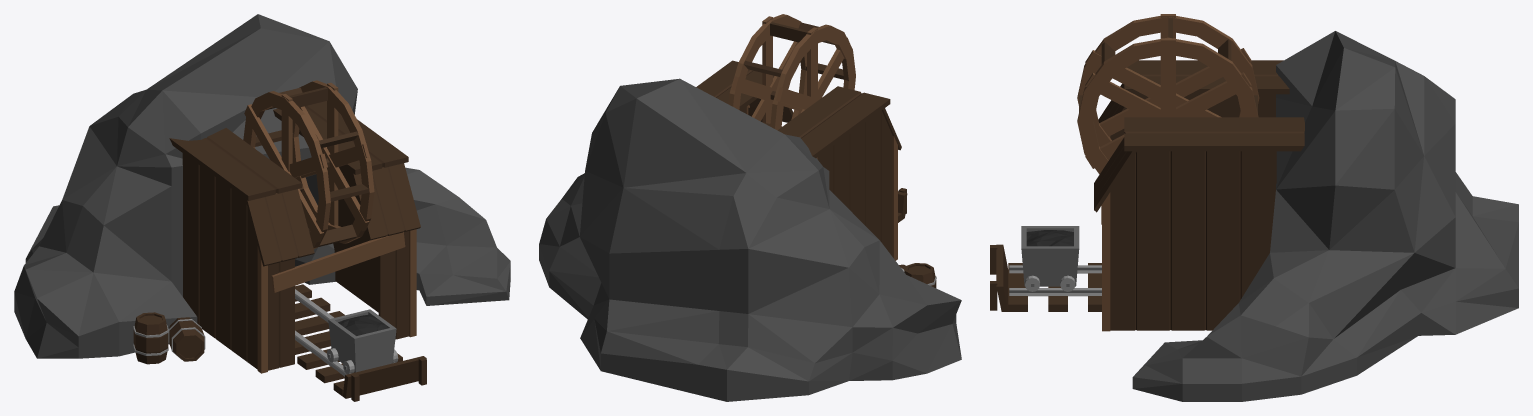
Rendered from mine_2_mat.fbx.
The picture shows the model from 3 angles, left to right: view 1: azimuth 30°, elevation 25°; view 2: azimuth 150°, elevation 25°; view 3: azimuth 270°, elevation 25°; orthographic projection. The views are drawn at different scales.
Visible parts, largest first — view 1: mine_2_mat; view 2: mine_2_mat; view 3: mine_2_mat.
Part boxes in pixels (x1,y1,x2,y2): mine_2_mat: (14, 14, 510, 401); mine_2_mat: (539, 14, 961, 401); mine_2_mat: (990, 14, 1518, 401).
Size of the model in its own units: 588 by 325 by 572.
